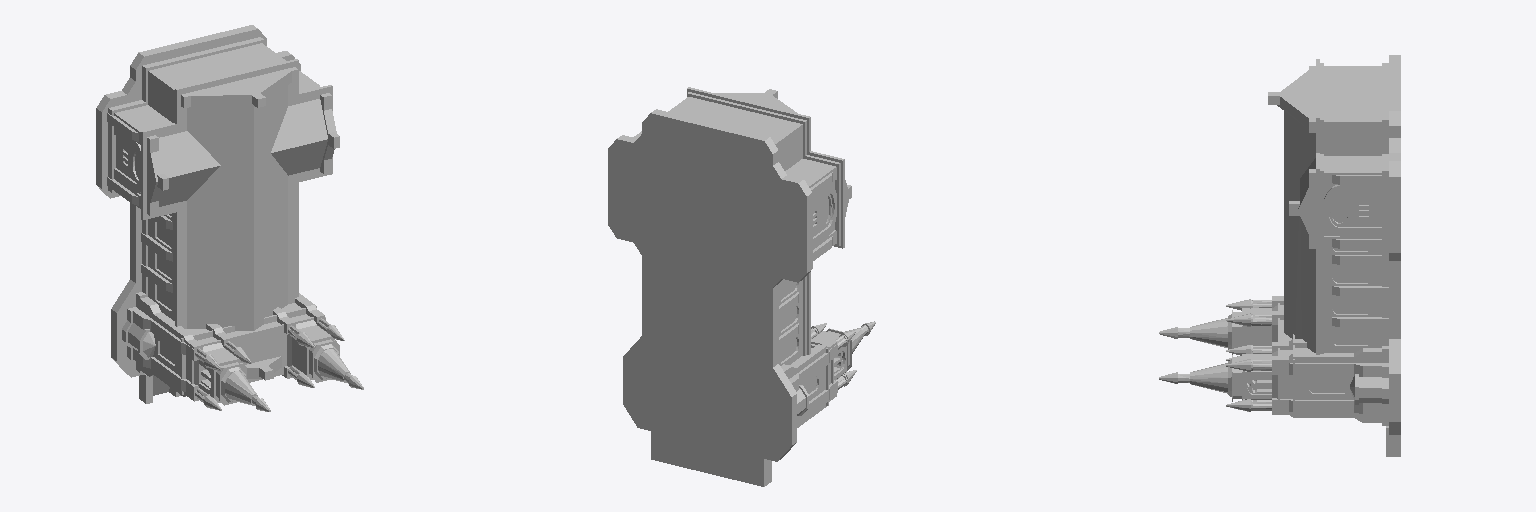
The model's file is matriz.obj.
The picture shows the model from 3 angles: view 1: azimuth 30°, elevation 25°; view 2: azimuth 150°, elevation 25°; view 3: azimuth 270°, elevation 25°; orthographic projection.
Parts seen in each view (by area): view 1: obj_0; view 2: obj_0; view 3: obj_0.
Part boxes in pixels (bbox=[...]): obj_0: bbox=[96, 25, 363, 411]; obj_0: bbox=[608, 87, 875, 486]; obj_0: bbox=[1159, 55, 1400, 456].
Size of the model in its own units: 90 by 150 by 95.